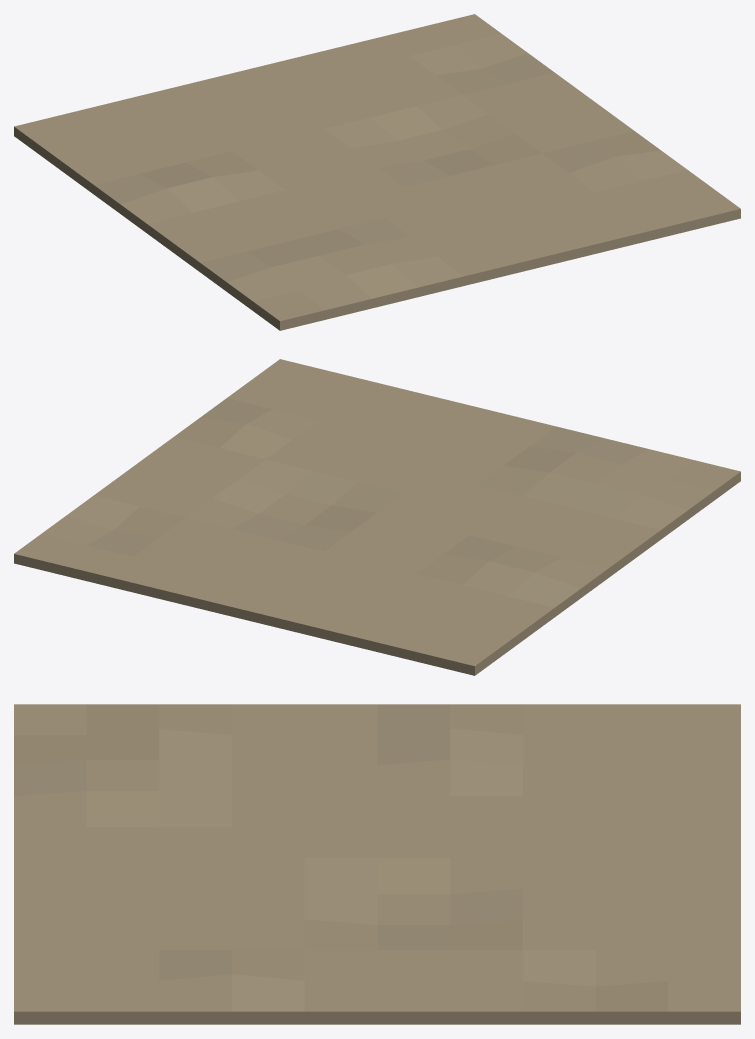
The model's file is ground.fbx.
3 views of the same model, one above another, from view 1: azimuth 30°, elevation 25°; view 2: azimuth 150°, elevation 25°; view 3: azimuth 270°, elevation 25° (orthographic). The views are drawn at different scales.
Parts seen in each view (by area): view 1: Cube.003; view 2: Cube.003; view 3: Cube.003.
Part boxes in pixels (bbox=[...]): Cube.003: bbox=[14, 14, 740, 330]; Cube.003: bbox=[14, 359, 740, 675]; Cube.003: bbox=[14, 704, 740, 1024].
Bounding box in the file's own units: 500 × 500 × 15.01.
